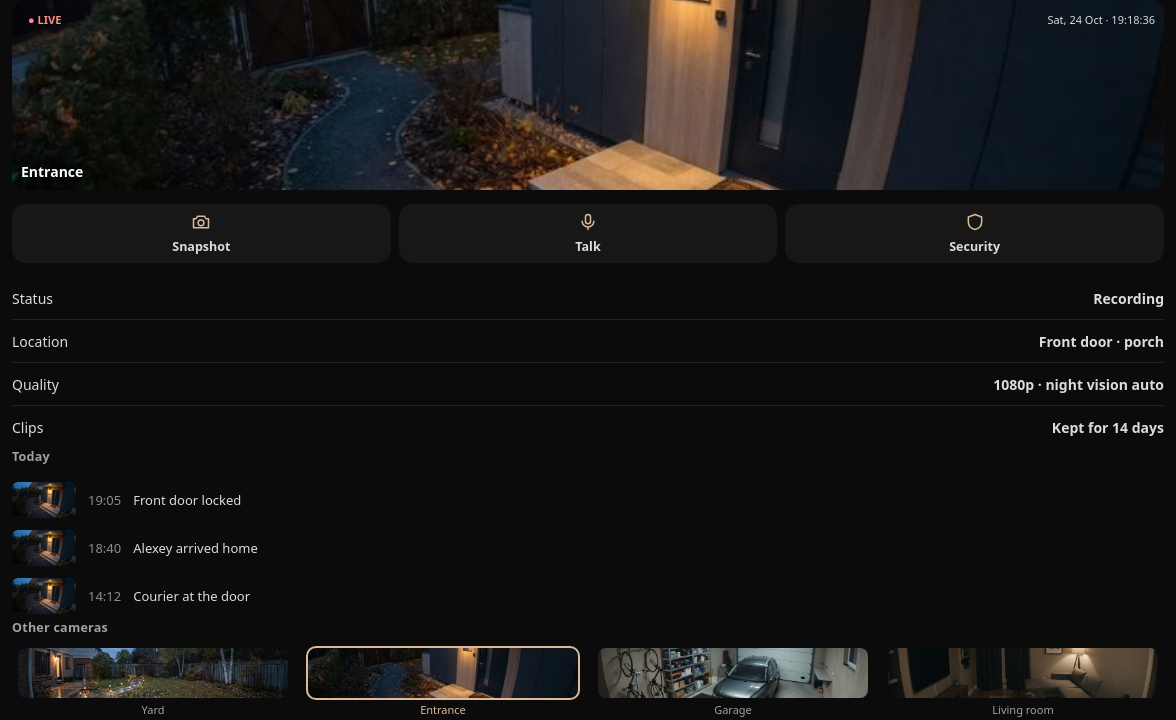
камера: Talk как в прототипе › нажатие включает разговор: «Stop talking», плашка «Talking…», запись в журнале
Click the button "Talk": (588, 234) [399, 204, 777, 263]
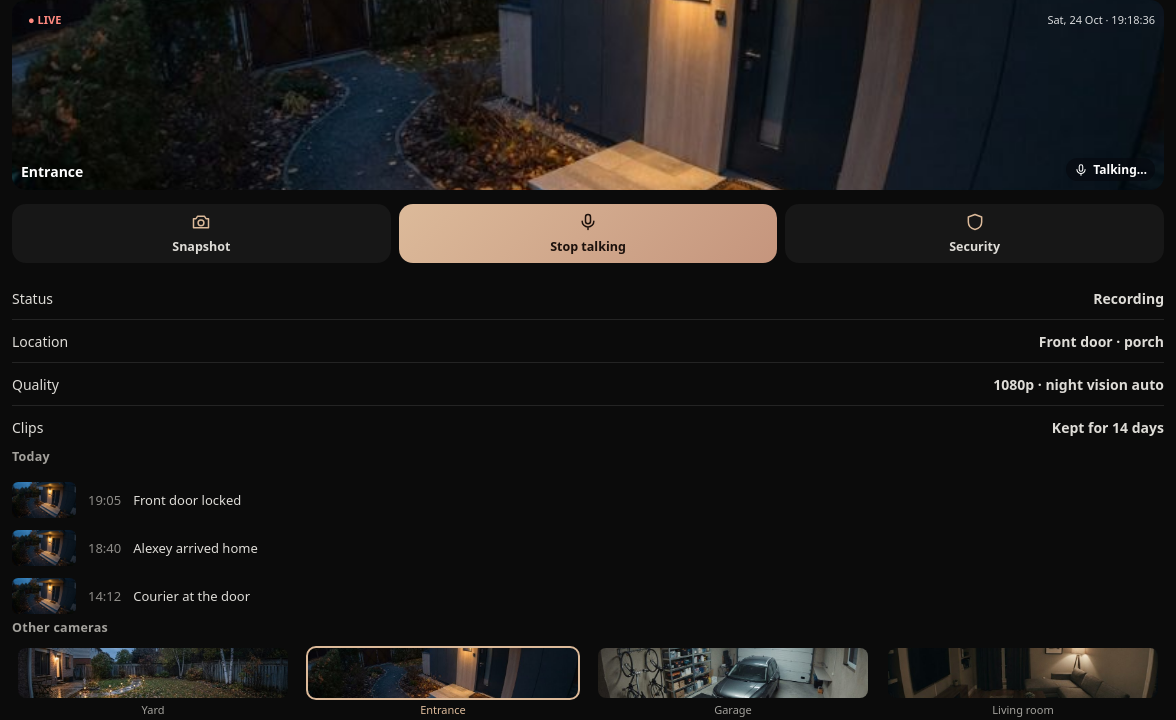
Now the text "Talking…" is shown, box [1066, 158, 1155, 181]
